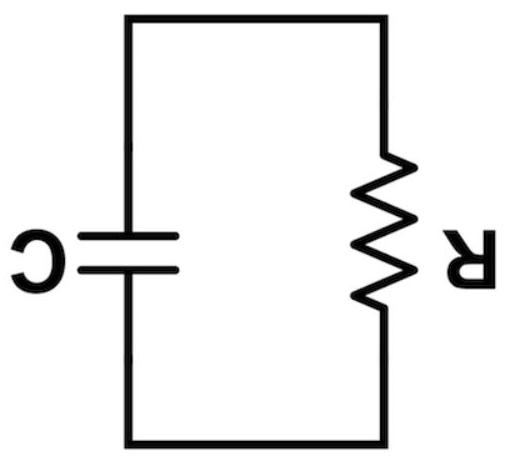Capacitor: (59, 192, 219, 308)
